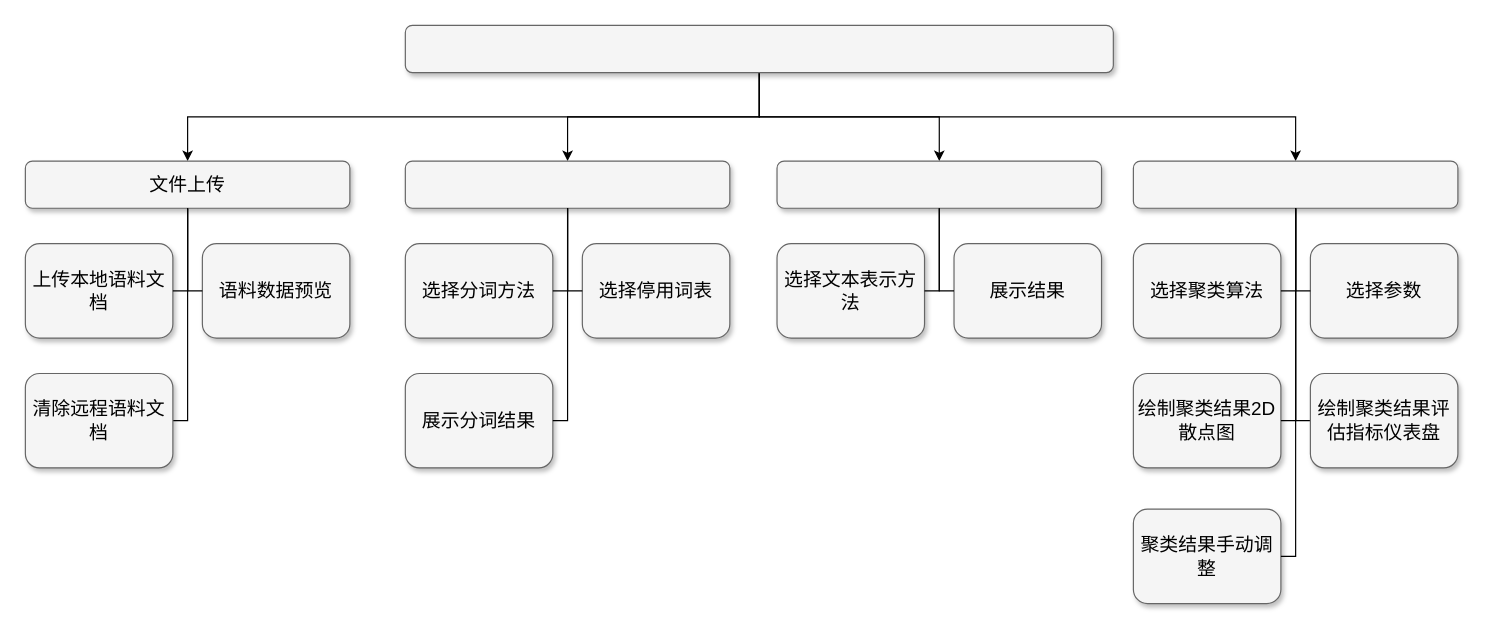
The diagram is 1486 pixels wide and 632 high, and some of its shapes have lost their labels. The shapes that lost their labels are listed below. From the top down, each one's centre as x and y in pixels, then its label:
the point at 759,50: 基于可视化的交互式文本聚类工具
the point at 568,186: 分词&去停用词
the point at 940,186: 文本表示
the point at 1296,186: 聚类分析
